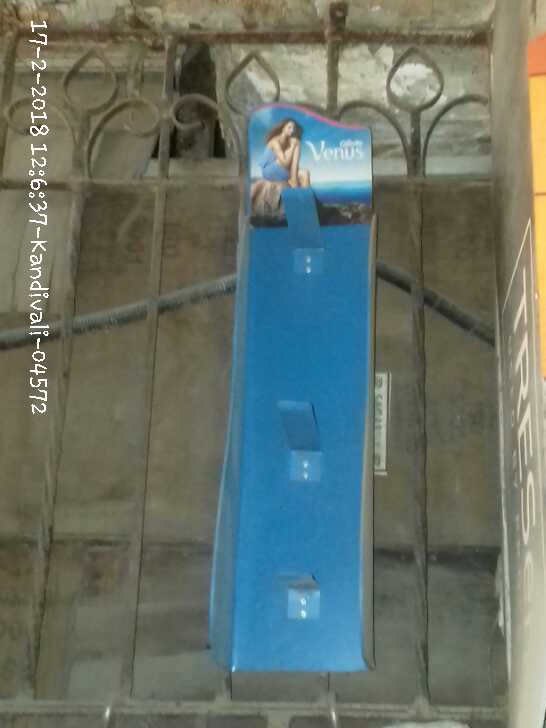reject: (216, 210, 418, 598)
